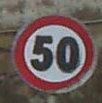limite 50: (10, 12, 96, 93)
